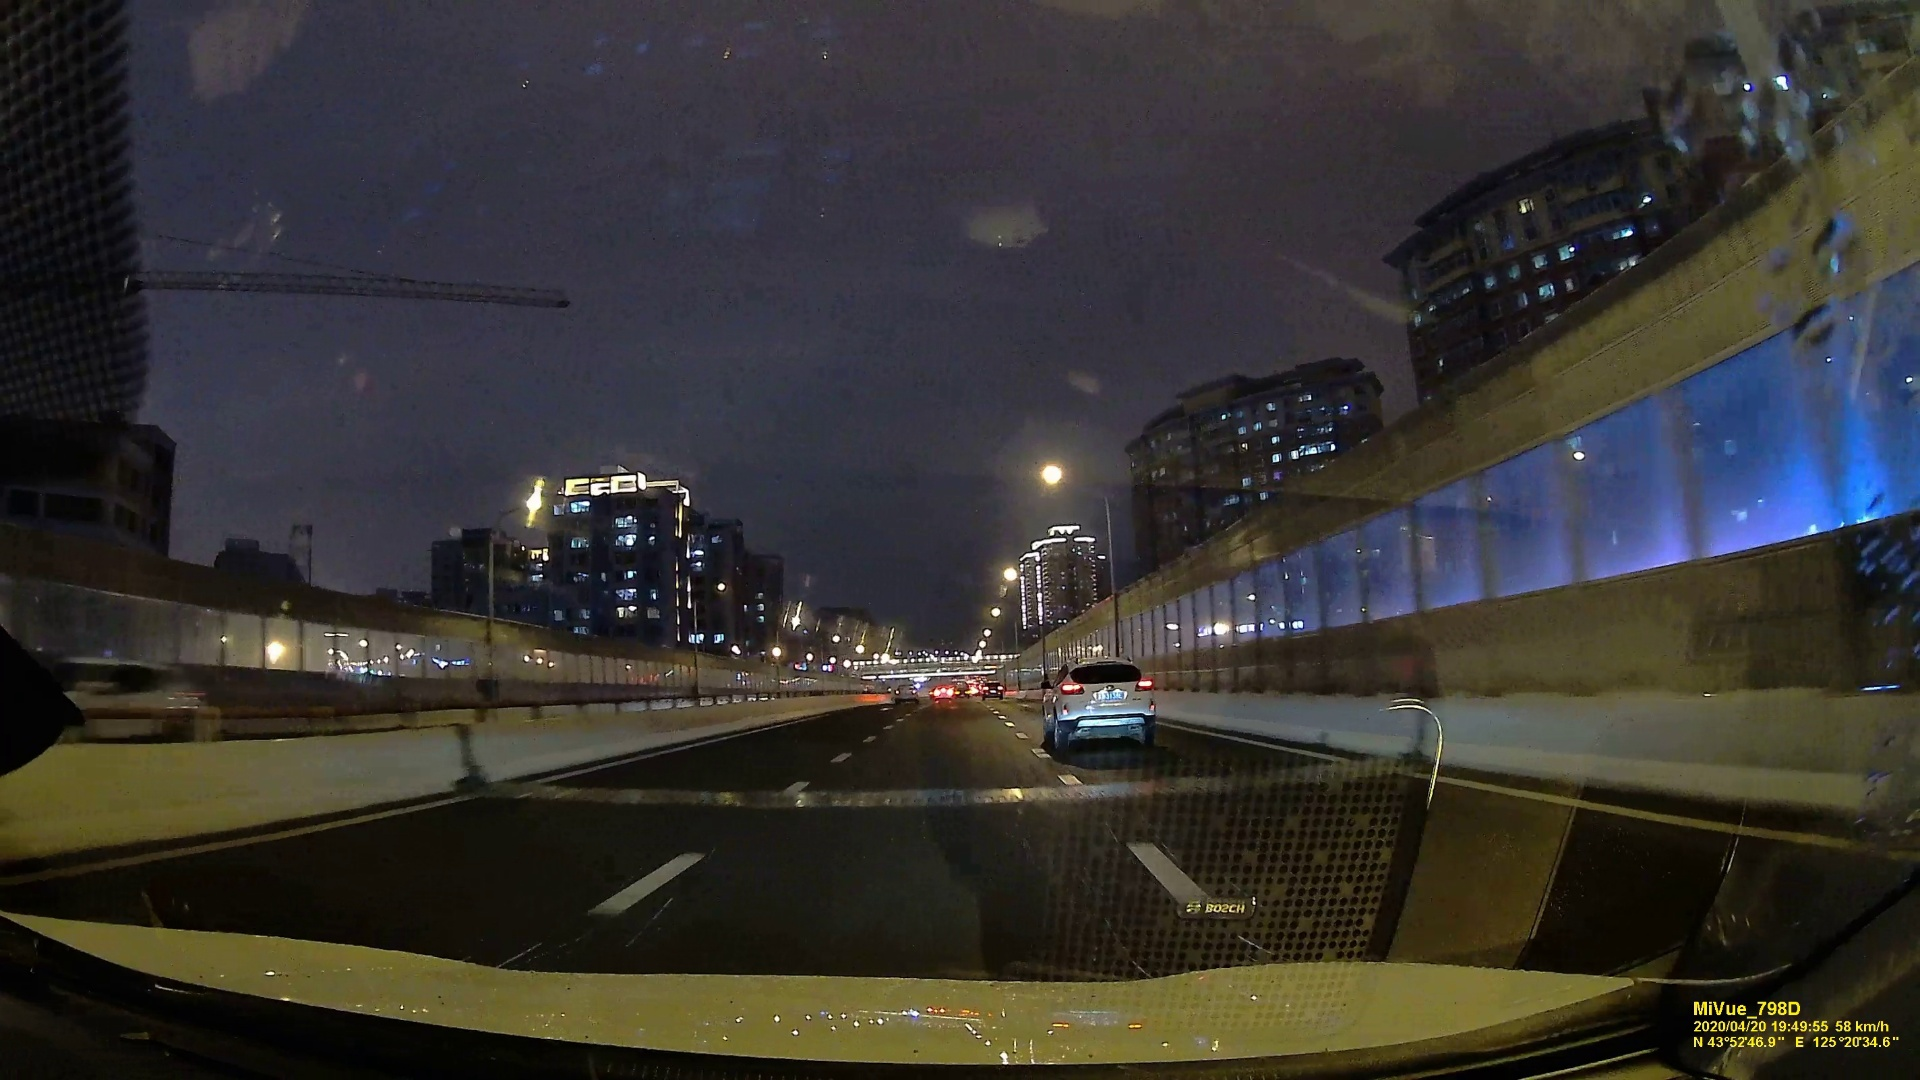vehicle: (1040, 658, 1158, 744), (893, 683, 919, 704), (981, 680, 1006, 702)
